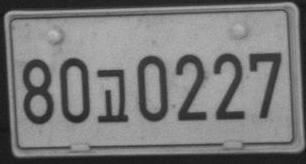0: (136, 54, 169, 122), (58, 56, 91, 123)
2: (212, 51, 246, 120), (174, 53, 207, 121)
7: (248, 51, 282, 119)
8: (21, 57, 54, 126)
고: (95, 68, 129, 123)
